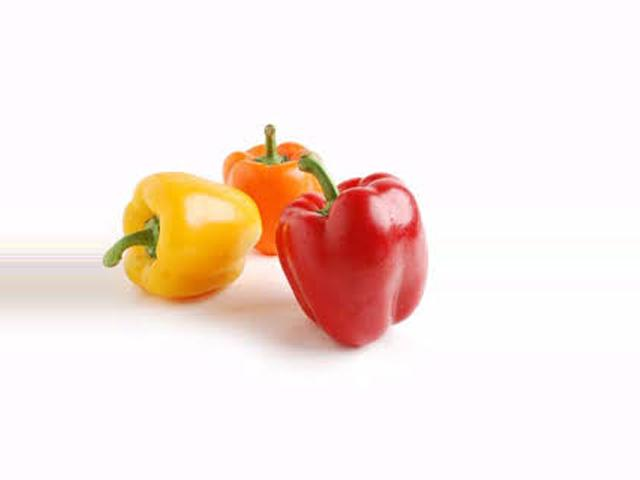bell_pepper: (268, 134, 430, 365)
